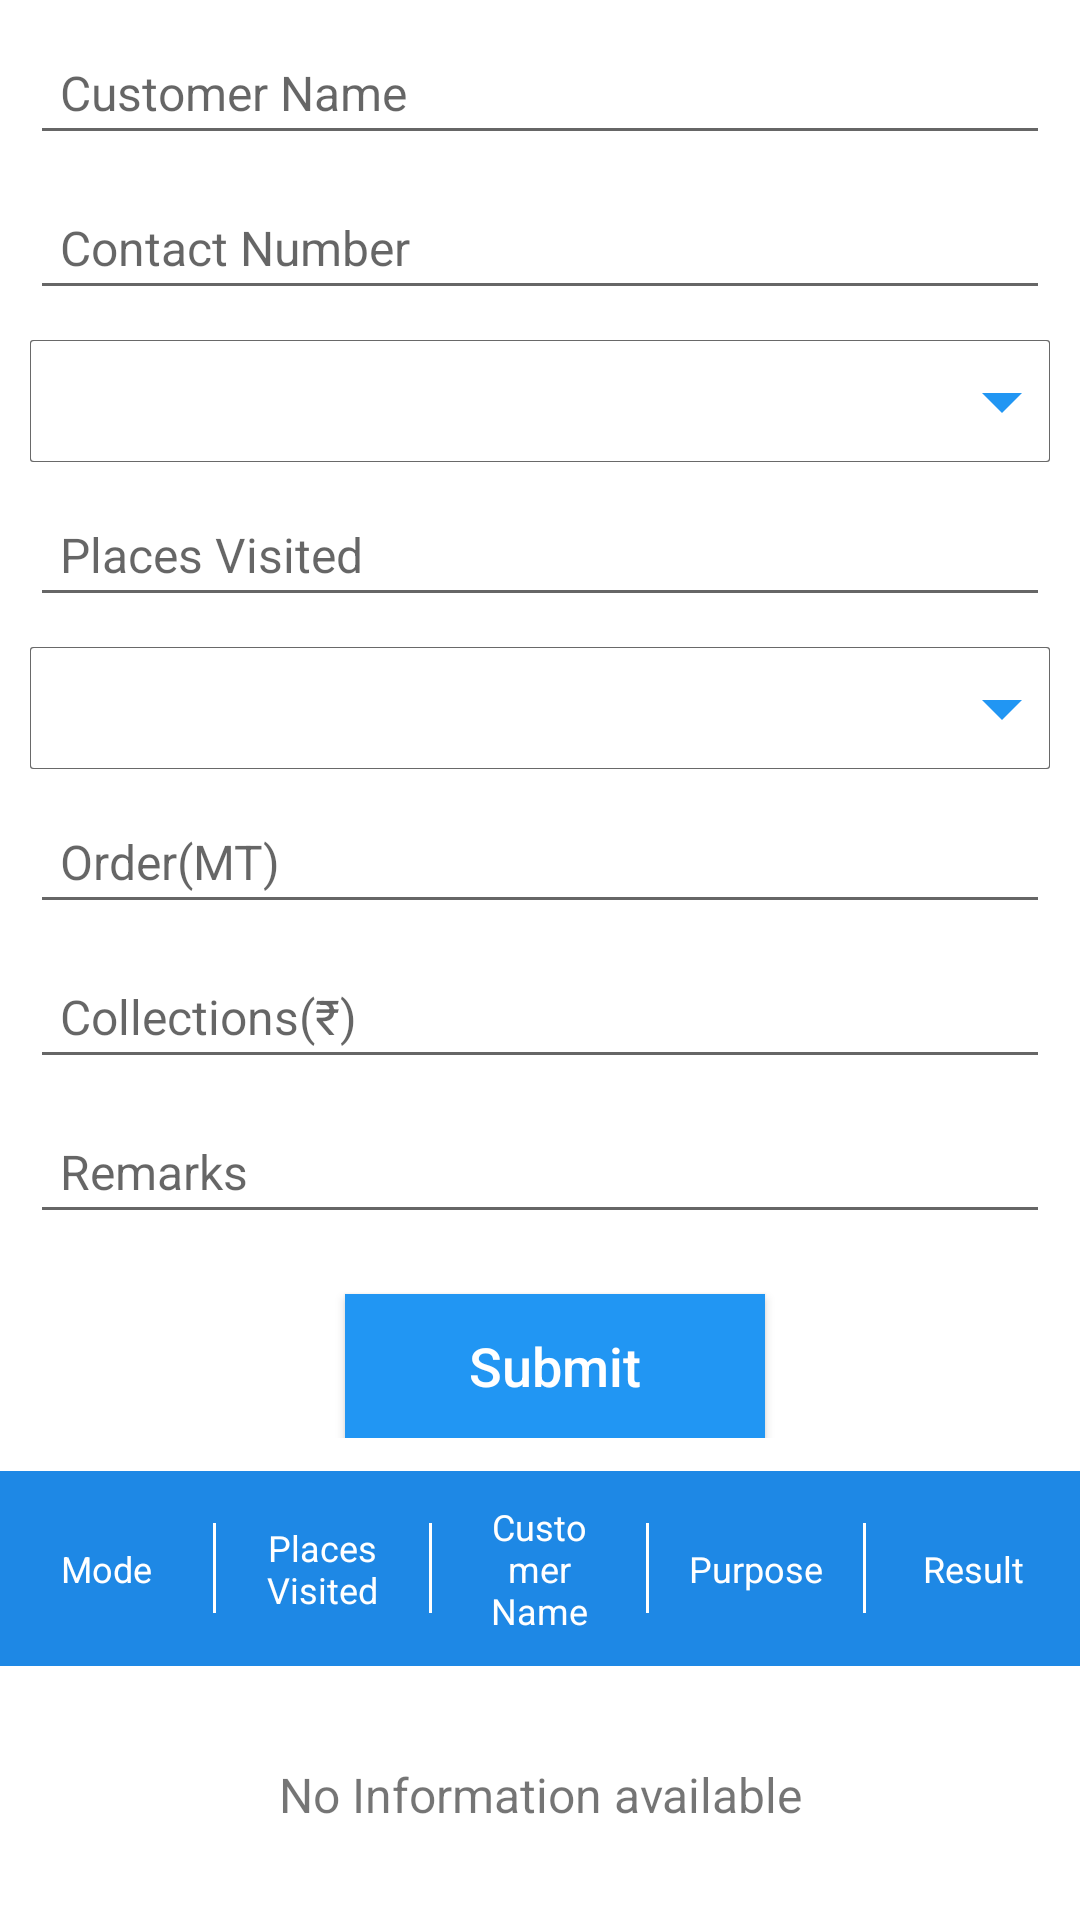

Icons on this 1080 × 1920 Android screen, each with its box as (x1=x1, y1=y1, x2=x2, y2=y2):
arrow drop down: (x1=982, y1=393, x2=1022, y2=413), (x1=982, y1=700, x2=1022, y2=720)
